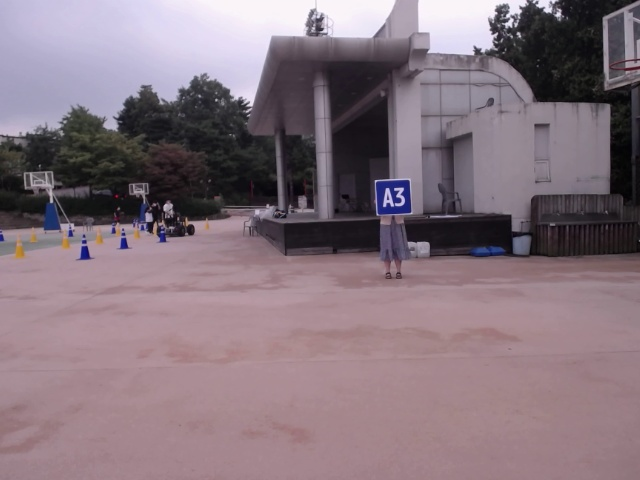delivery_a3: (375, 179, 413, 215)
